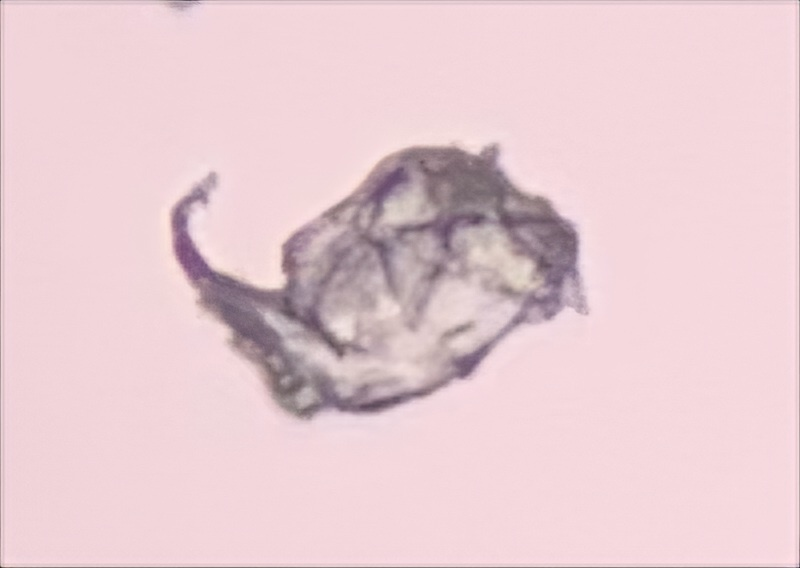microplastic: (169, 143, 592, 419)
